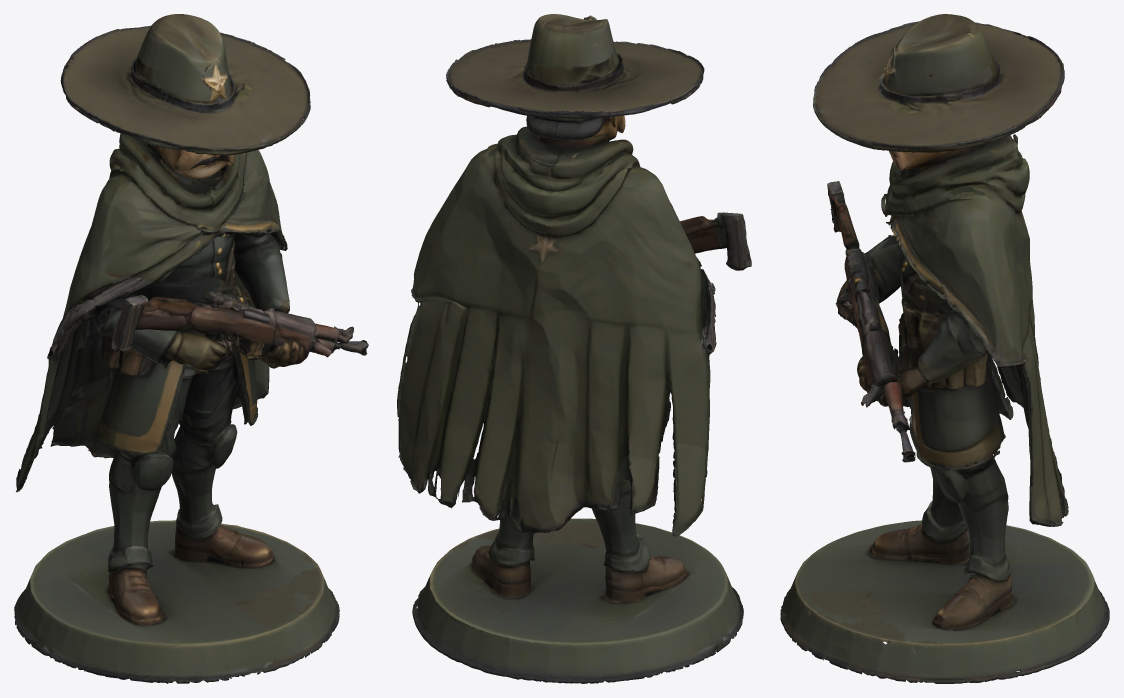
File: Sheriff_of_the_Future.glb
The picture shows the model from 3 angles, left to right: view 1: azimuth 30°, elevation 25°; view 2: azimuth 150°, elevation 25°; view 3: azimuth 270°, elevation 25°; orthographic projection.
Bounding box in the file's own units: 1.11 × 2 × 1.01.
1 material, 1 textured.
